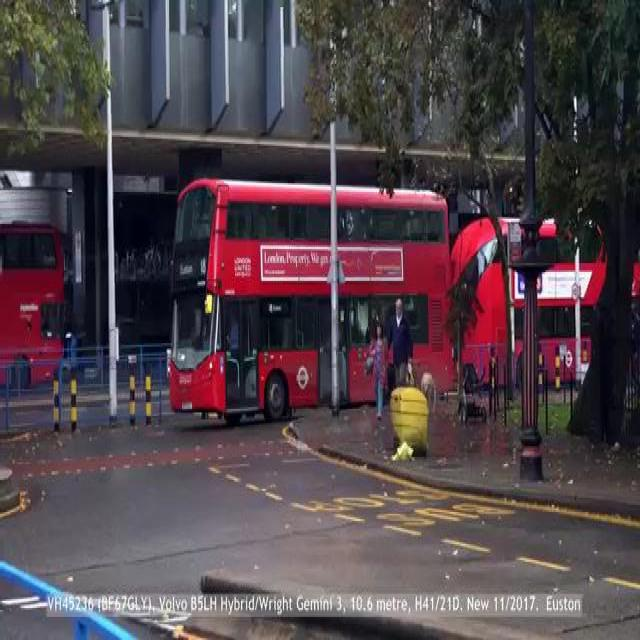motorcycle: (174, 170, 448, 427), (450, 204, 624, 378), (0, 199, 78, 413)
